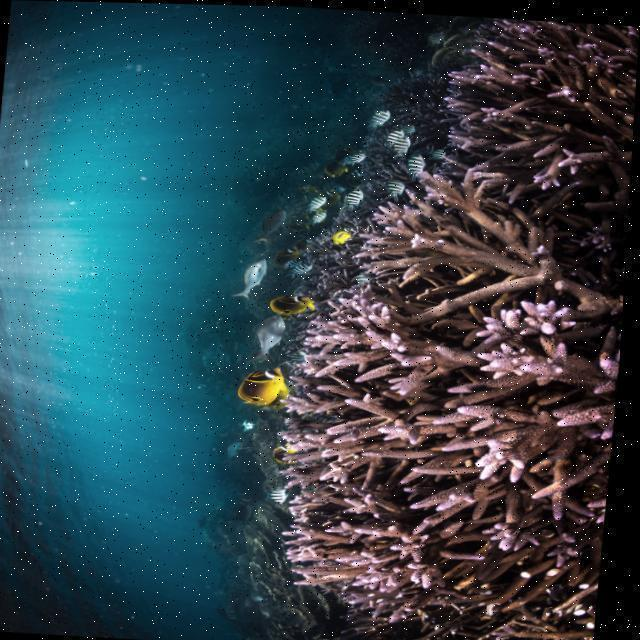Healthy Coral: (266, 17, 627, 640)
